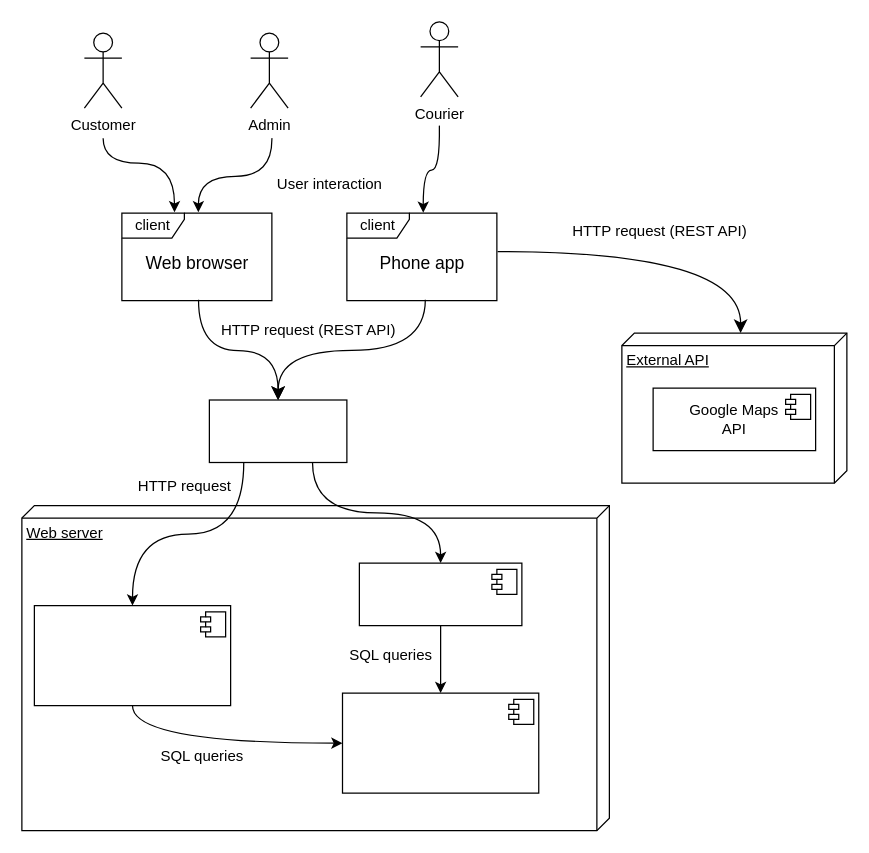
The diagram is 869 pixels wide and 853 high, and some of its shapes have lost their labels. Here are the shapes that lost their labels. From the top down, the centre of each, then its label:
At point 277,430: "API gateway".
At point 440,594: "Auth Provider".
At point 132,655: "Salesforce CRM".
At point 440,742: "Cloud Storage".
